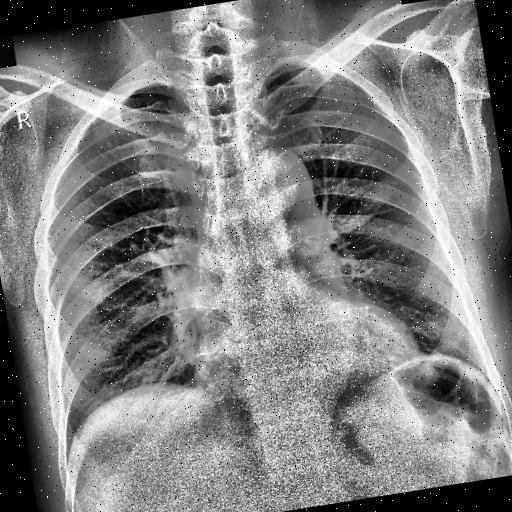0- Aortic enlargement: (240, 142, 324, 229), (234, 140, 319, 222), (246, 137, 316, 221)
3- Cardiomegaly: (188, 299, 423, 408), (186, 318, 424, 410)
